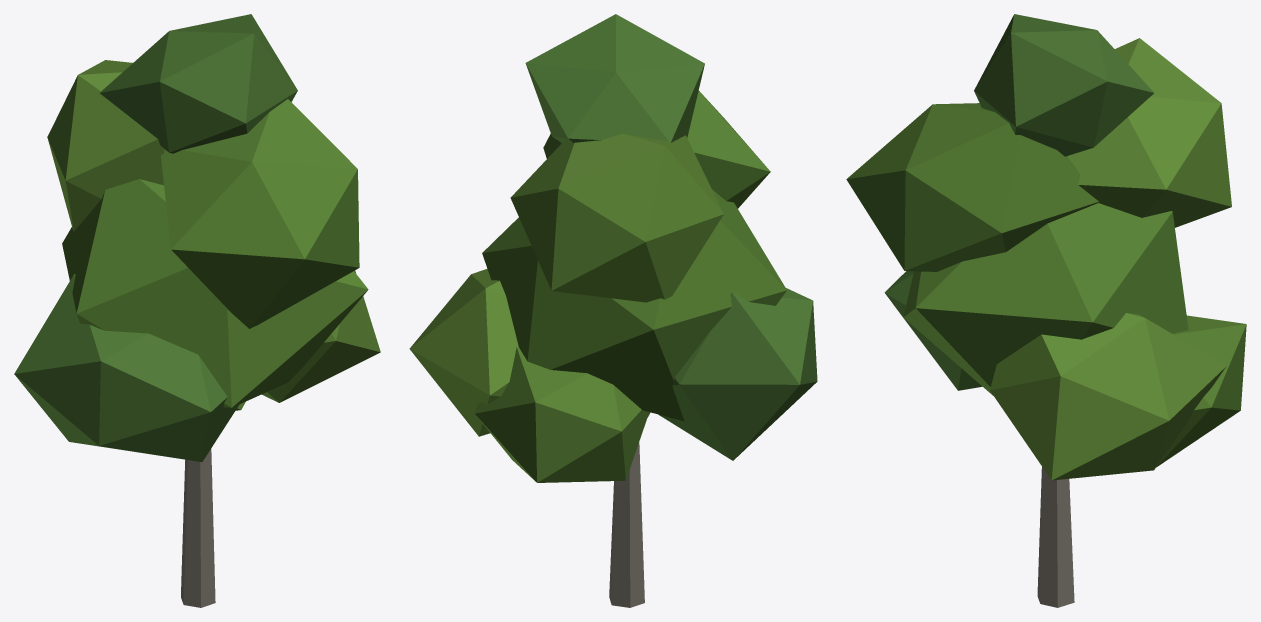
Rendered from beech.glb.
3 renders of one model, left to right at view 1: azimuth 30°, elevation 25°; view 2: azimuth 150°, elevation 25°; view 3: azimuth 270°, elevation 25°, orthographic. The views are drawn at different scales.
Visible parts, largest first — view 1: beech; view 2: beech; view 3: beech.
Boxes of the visible parts, box(x1,y1,x2,y2) form: beech: box(14, 14, 380, 607); beech: box(409, 14, 817, 607); beech: box(846, 14, 1246, 607).
Bounding box in the file's own units: 7.64 × 11.62 × 7.23.
